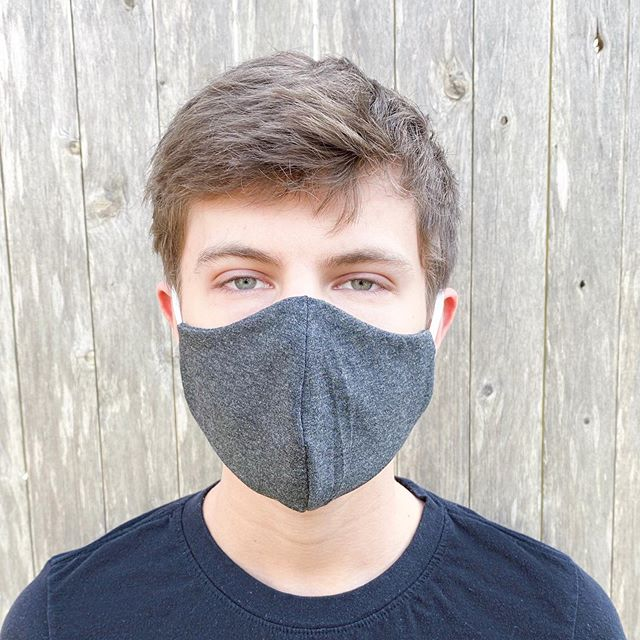homemade: (170, 302, 438, 515)
